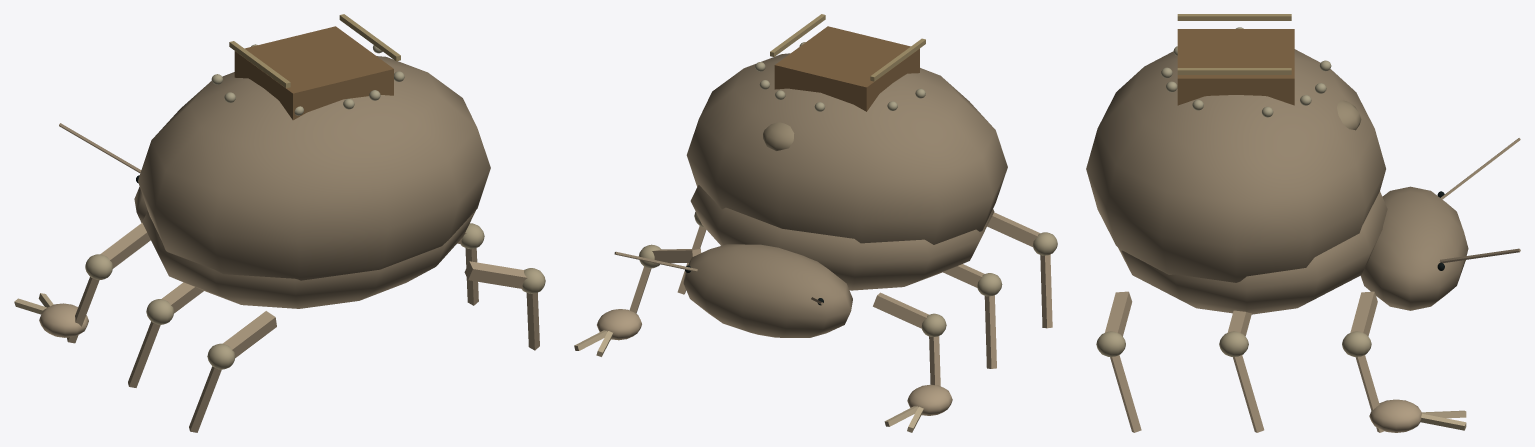
Rendered from chull.glb.
3 views of the same model, side by side, from view 1: azimuth 30°, elevation 25°; view 2: azimuth 150°, elevation 25°; view 3: azimuth 270°, elevation 25° (orthographic). The views are drawn at different scales.
Parts seen in each view (by area): view 1: carapace_stone, leg_0_-1_stone, leg_2_-1_stone, leg_2_1_stone, leg_1_-1_stone, leg_1_1_stone; view 2: carapace_stone, leg_0_-1_stone, leg_0_1_stone, leg_2_-1_stone, leg_1_-1_stone; view 3: carapace_stone, leg_0_1_stone, leg_2_1_stone, leg_1_1_stone.
Boxes of the visible parts, x1,y1,x2,y2 form: carapace_stone: (59, 14, 490, 308); leg_0_-1_stone: (14, 223, 150, 343); leg_2_-1_stone: (189, 311, 276, 432); leg_2_1_stone: (464, 261, 545, 350); leg_1_-1_stone: (128, 282, 203, 387); leg_1_1_stone: (457, 223, 484, 305); carapace_stone: (614, 14, 1007, 337); leg_0_-1_stone: (873, 292, 952, 432); leg_0_1_stone: (574, 244, 701, 356); leg_2_-1_stone: (987, 212, 1057, 328); leg_1_-1_stone: (943, 264, 1002, 368); carapace_stone: (1086, 14, 1520, 314); leg_0_1_stone: (1342, 291, 1466, 432); leg_2_1_stone: (1096, 291, 1141, 432); leg_1_1_stone: (1219, 310, 1264, 432).
Bounding box in the file's own units: 4.17 × 3.18 × 4.08.
